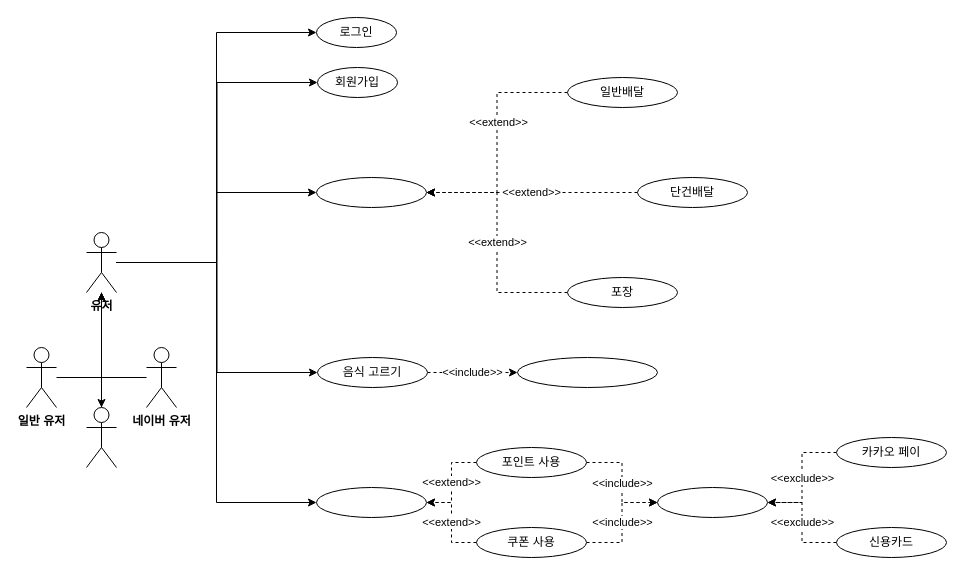
Image size: 964x575. Some labels were removed from this diagram. The box of each missing label's shape, as (x1, y1, x2, y2) in pixels:
결제수단 선택: (656, 486, 768, 518)
결제하기: (316, 486, 426, 518)
음식점 및 메뉴 선택: (516, 356, 658, 388)
주문 방법 선택: (316, 176, 426, 208)
카카오 유저: (86, 406, 116, 468)
